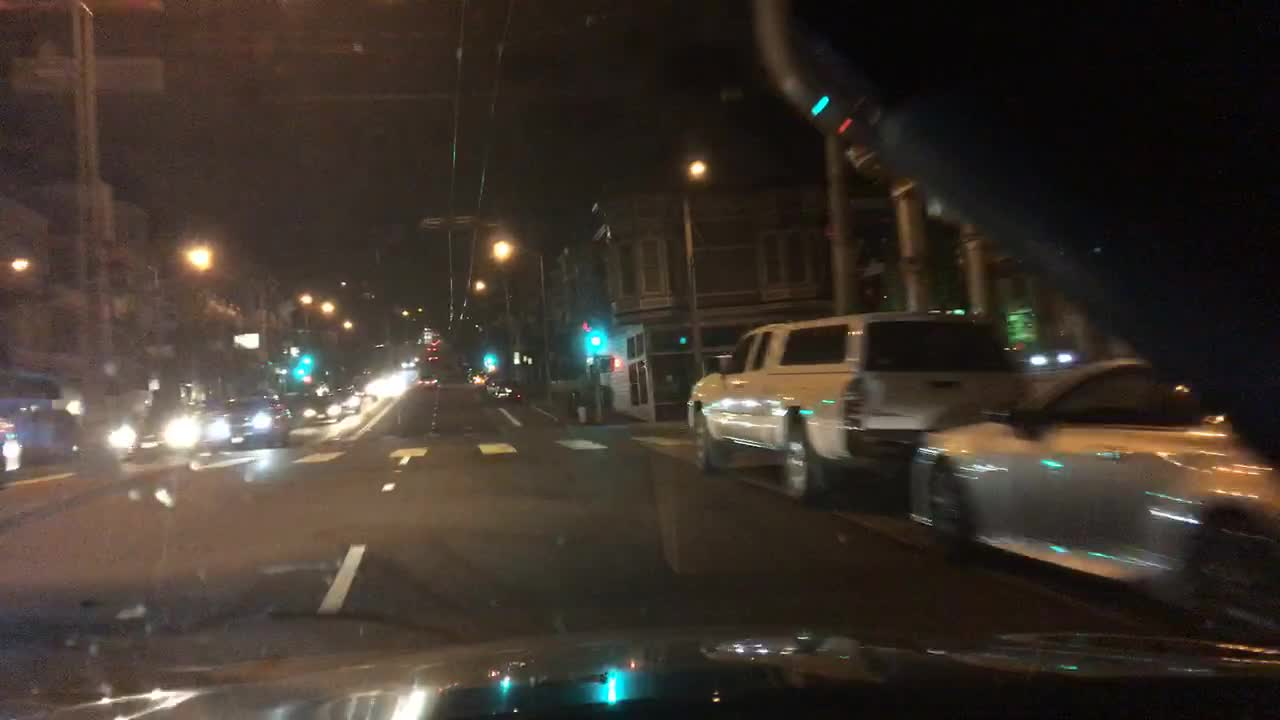car: (903, 354, 1278, 645), (685, 308, 1022, 510), (199, 387, 294, 452), (109, 398, 202, 462), (1, 405, 89, 466), (278, 389, 343, 426), (1008, 333, 1080, 366), (329, 383, 365, 415), (351, 368, 388, 395), (494, 378, 524, 403), (482, 373, 509, 398), (380, 368, 406, 389), (187, 397, 218, 413), (415, 371, 441, 389), (465, 368, 488, 385), (308, 381, 332, 396), (398, 357, 416, 370), (410, 354, 423, 365)
traffic light: (594, 353, 623, 373), (589, 329, 604, 348)
traffic sign: (3, 51, 165, 97), (232, 329, 259, 348)
